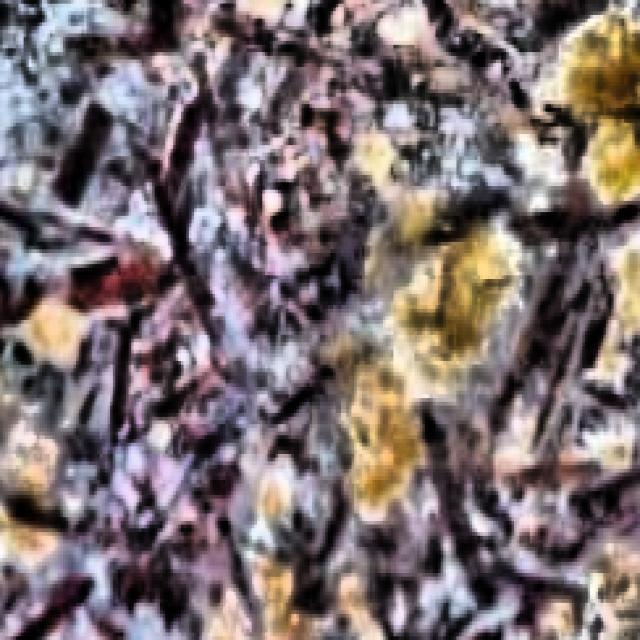Affected: (277, 281, 521, 556), (467, 0, 640, 201)
